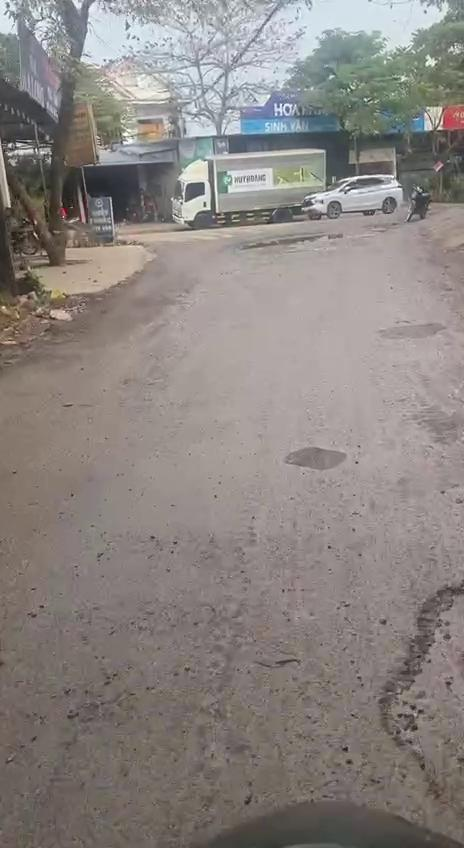pothole: (368, 568, 464, 830)
